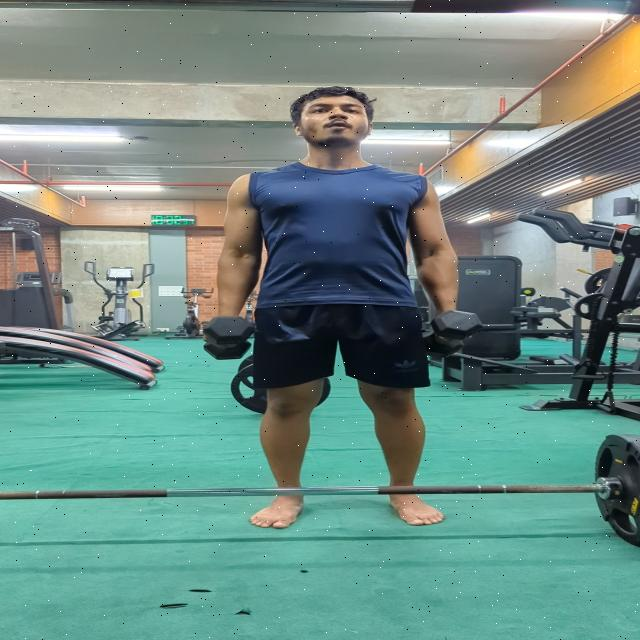Normal_DumbbellBicepCurls: (203, 80, 502, 535)
